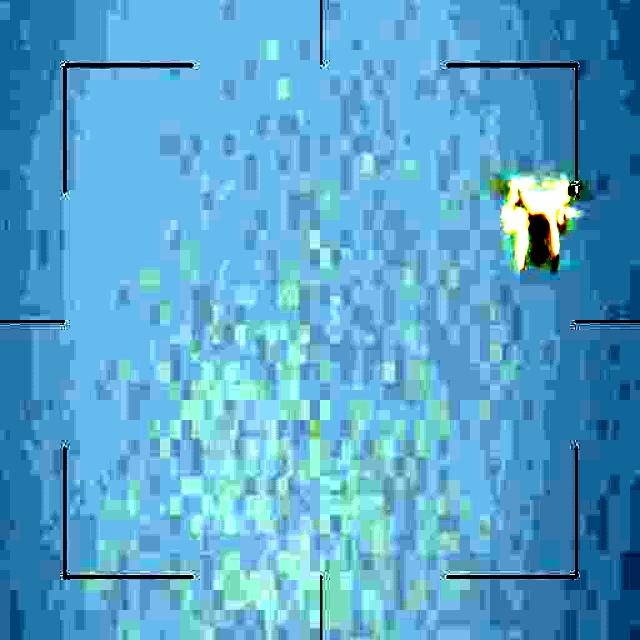bird: (490, 176, 581, 271)
